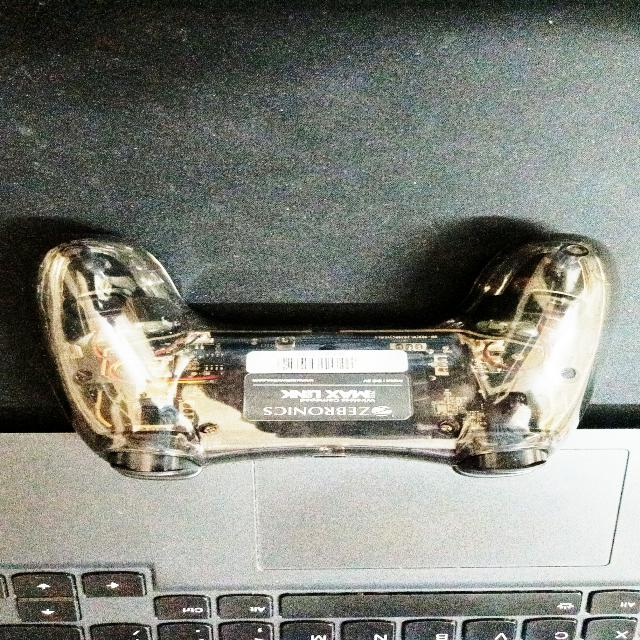gamepad: (34, 234, 610, 482)
